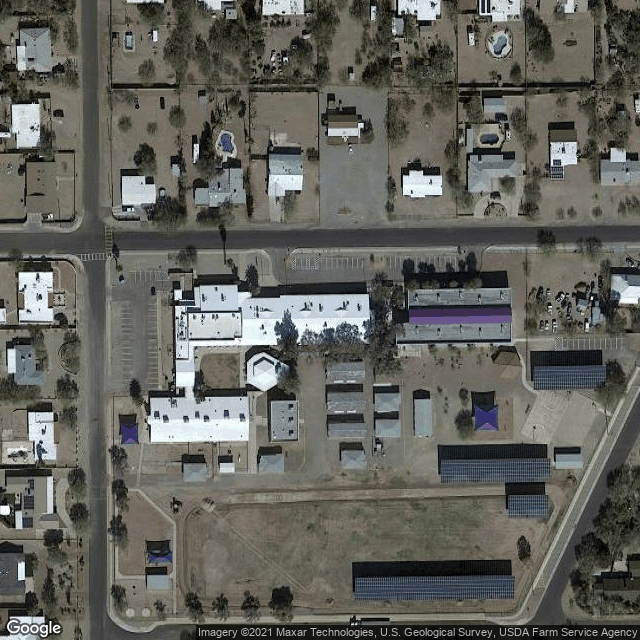carport-fixed: (354, 572, 516, 601), (440, 458, 549, 482), (530, 366, 607, 388), (506, 495, 548, 517)
